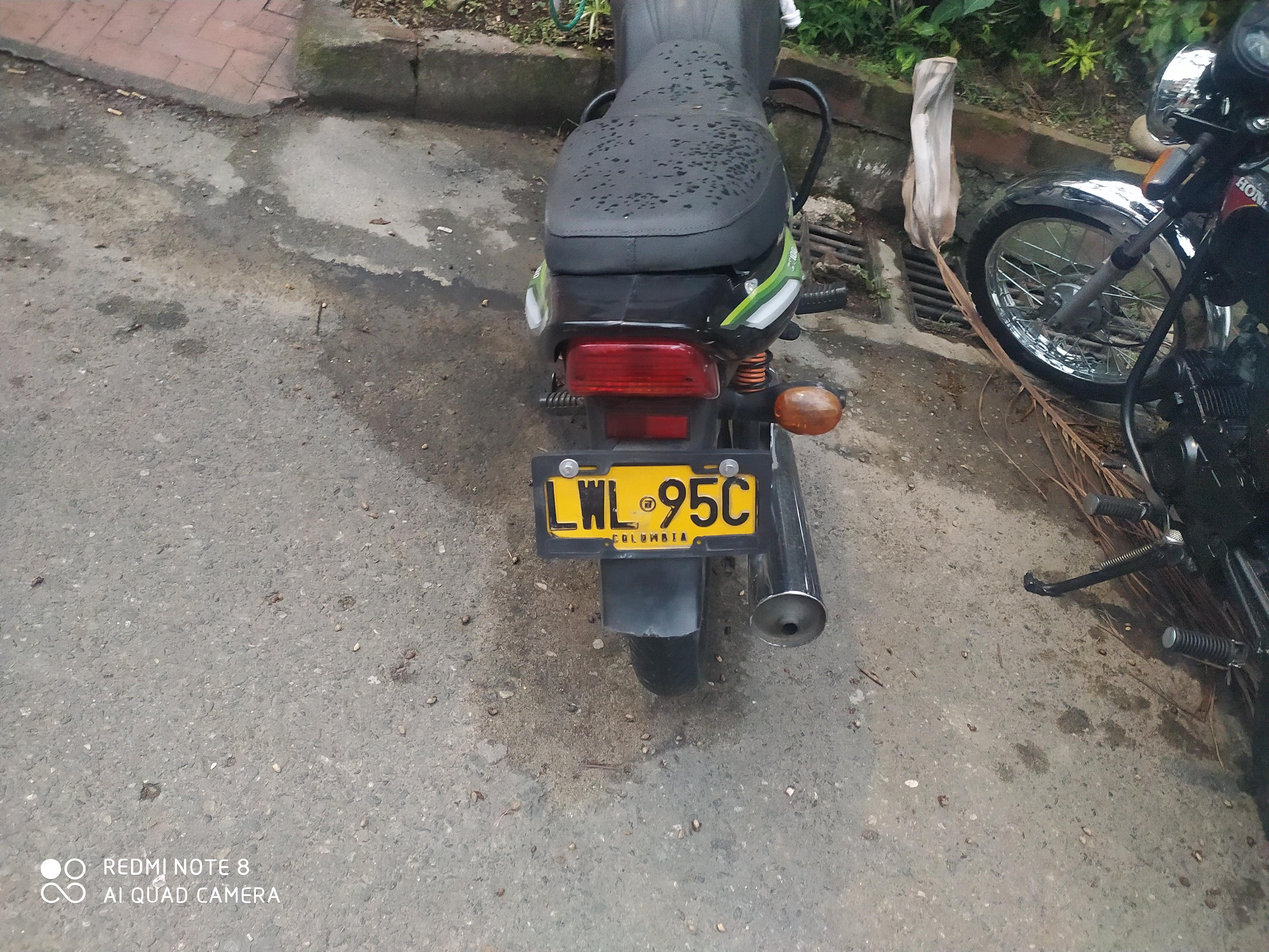placa: (518, 439, 768, 564)
